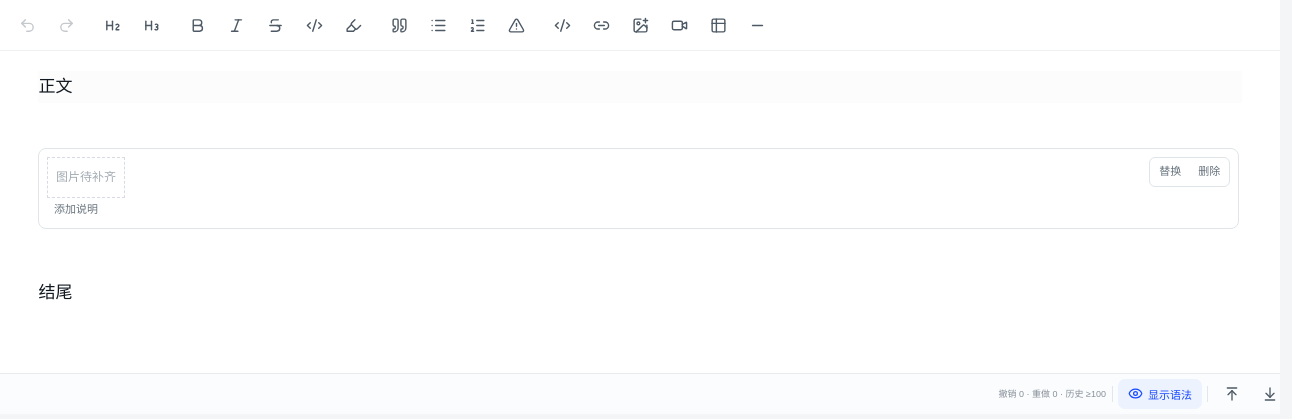
Test case: SourceEditor › shows a quiet missing-image card and deletes the underlying image syntax
Check: the element with class "missing" shows "图片待补齐", box x1=56 y1=170 x2=116 y2=184
Click the button with class "delete": {"x": 1210, "y": 172} x1=1192 y1=160 x2=1228 y2=184
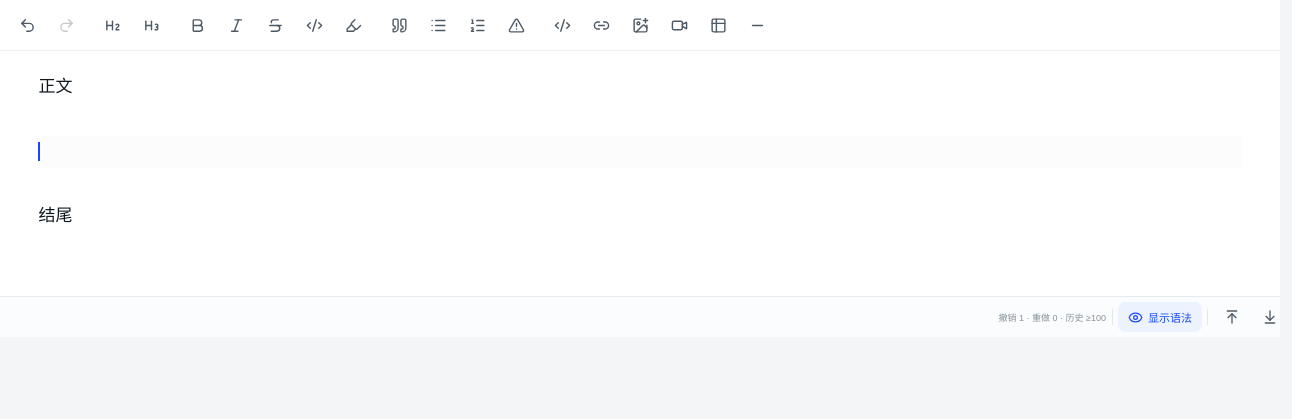
Check: the element with class "source-image-widget" is gone
